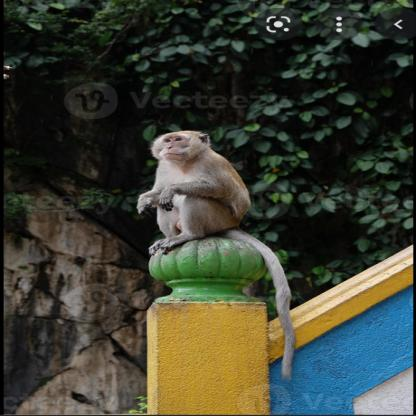monkey: (132, 128, 286, 260)
